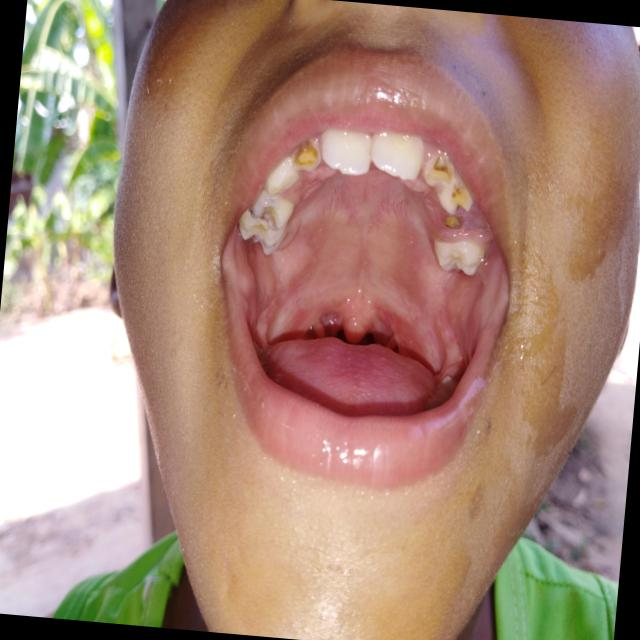Caries: (443, 216, 461, 228)
Tooth: (370, 131, 423, 181), (320, 128, 371, 175), (238, 209, 288, 255), (433, 239, 485, 275), (250, 190, 294, 231), (437, 173, 474, 215), (264, 157, 299, 197), (423, 151, 454, 187), (291, 138, 322, 172)
